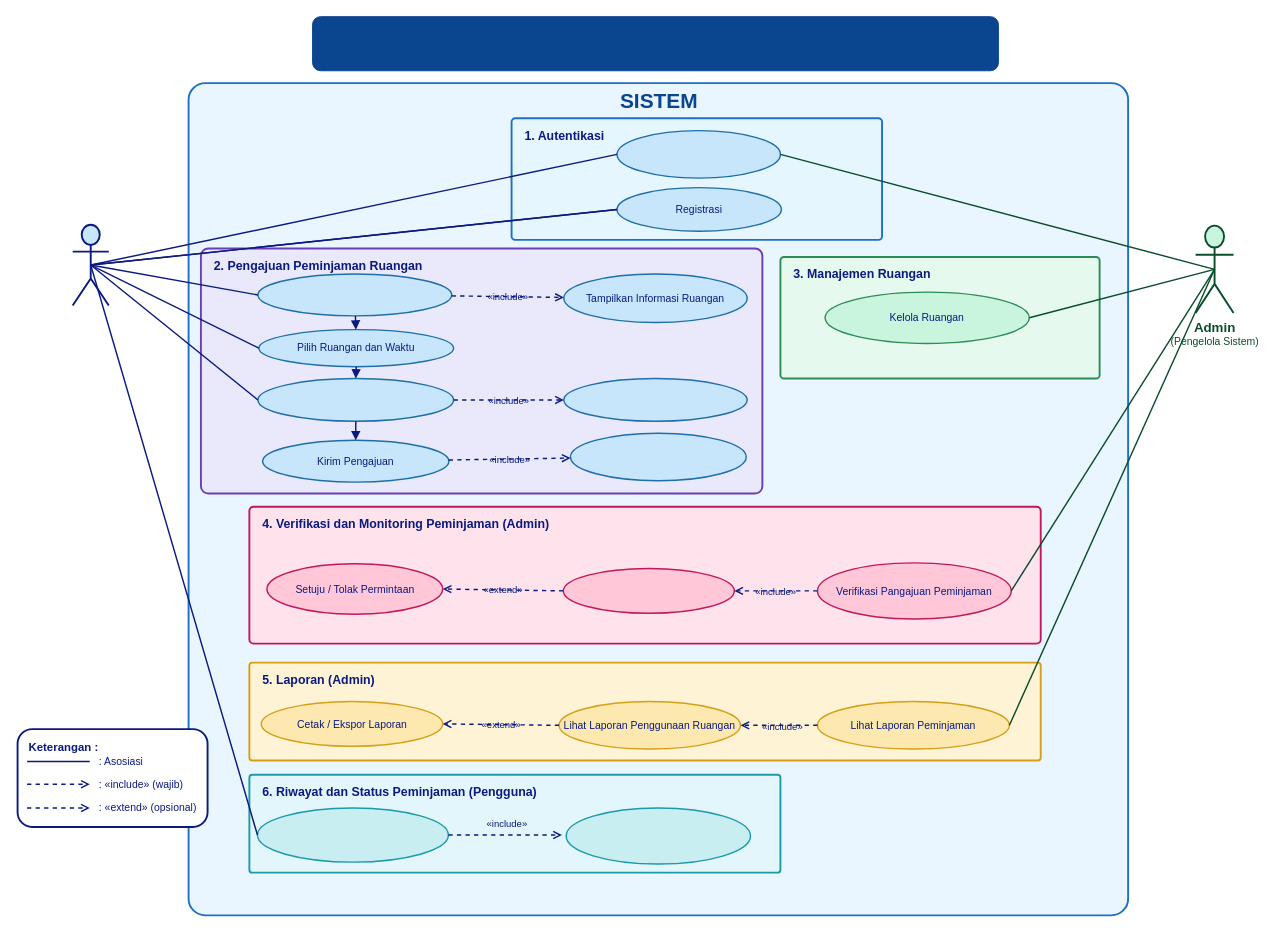
This 1275x933 diagram has some shape labels left out. Here are the shapes that lost their labels. From the top down, the centre of each, then its label:
point 655,43: Use Case Diagram Sistem Peminjaman Ruangan Kelas Berbasis Web (Smart Class)
point 698,153: Login
point 90,264: Pengguna (Mahasiswa & Dosen)
point 354,294: Cek Ketersediaan Ruangan
point 355,399: Ajukan Peminjaman
point 655,399: Isi Form Peminjaman
point 658,456: Simpan Data Peminjaman
point 648,590: Update Status Peminjaman
point 352,834: Lihat Riwayat Peminjaman
point 658,835: Filter Riwayat (Status, Tanggal, Ruangan)
